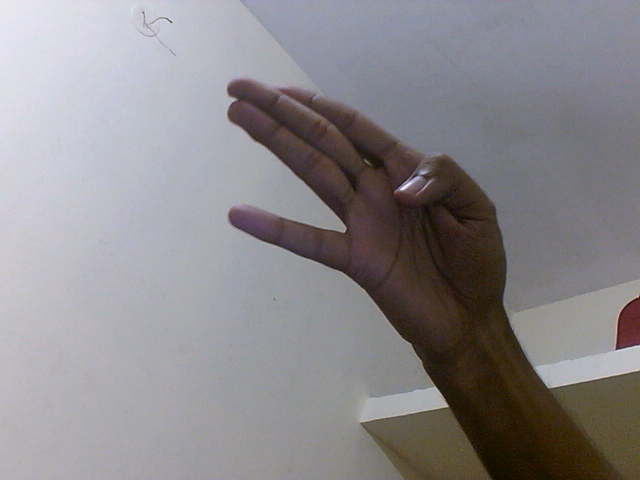hand: (220, 78, 512, 366)
